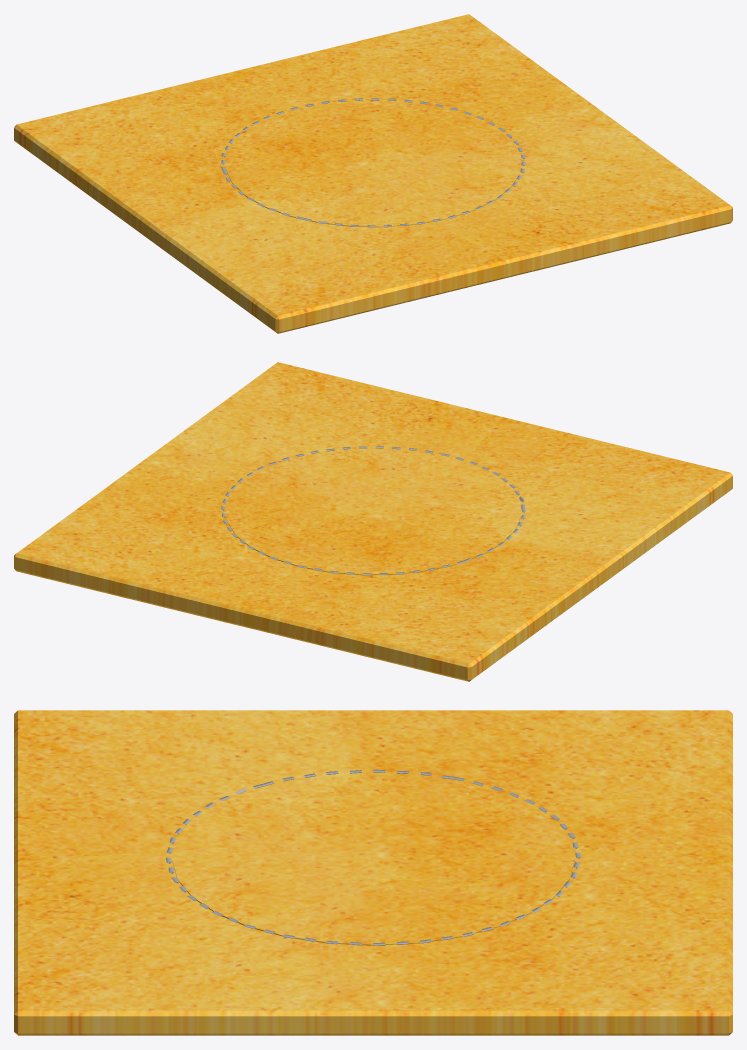
File: keo_tron.fbx
3 renders of one model, top to bottom at view 1: azimuth 30°, elevation 25°; view 2: azimuth 150°, elevation 25°; view 3: azimuth 270°, elevation 25°, orthographic. The views are drawn at different scales.
Parts seen in each view (by area): view 1: polySurface291, pasted__oj_061, polySurface293, polySurface294, polySurface295; view 2: pasted__oj_061, polySurface291, polySurface294, polySurface295, polySurface293; view 3: pasted__oj_061, polySurface293, polySurface294, polySurface291, polySurface295.
Boxes of the visible parts, box(x1,y1,x2,y2) form: polySurface291: box(112, 193, 505, 333); pasted__oj_061: box(226, 102, 520, 227); polySurface293: box(448, 109, 732, 278); polySurface294: box(243, 14, 598, 135); polySurface295: box(14, 69, 304, 212); pasted__oj_061: box(226, 450, 520, 575); polySurface291: box(442, 417, 732, 607); polySurface294: box(14, 458, 302, 626); polySurface295: box(241, 545, 570, 681); polySurface293: box(147, 362, 503, 483); pasted__oj_061: box(172, 774, 574, 945); polySurface293: box(14, 860, 417, 1035); polySurface294: box(351, 842, 732, 1035); polySurface291: box(14, 710, 461, 870); polySurface295: box(376, 710, 732, 869).
Bounding box in the file's own units: 142 × 6.72 × 142.
